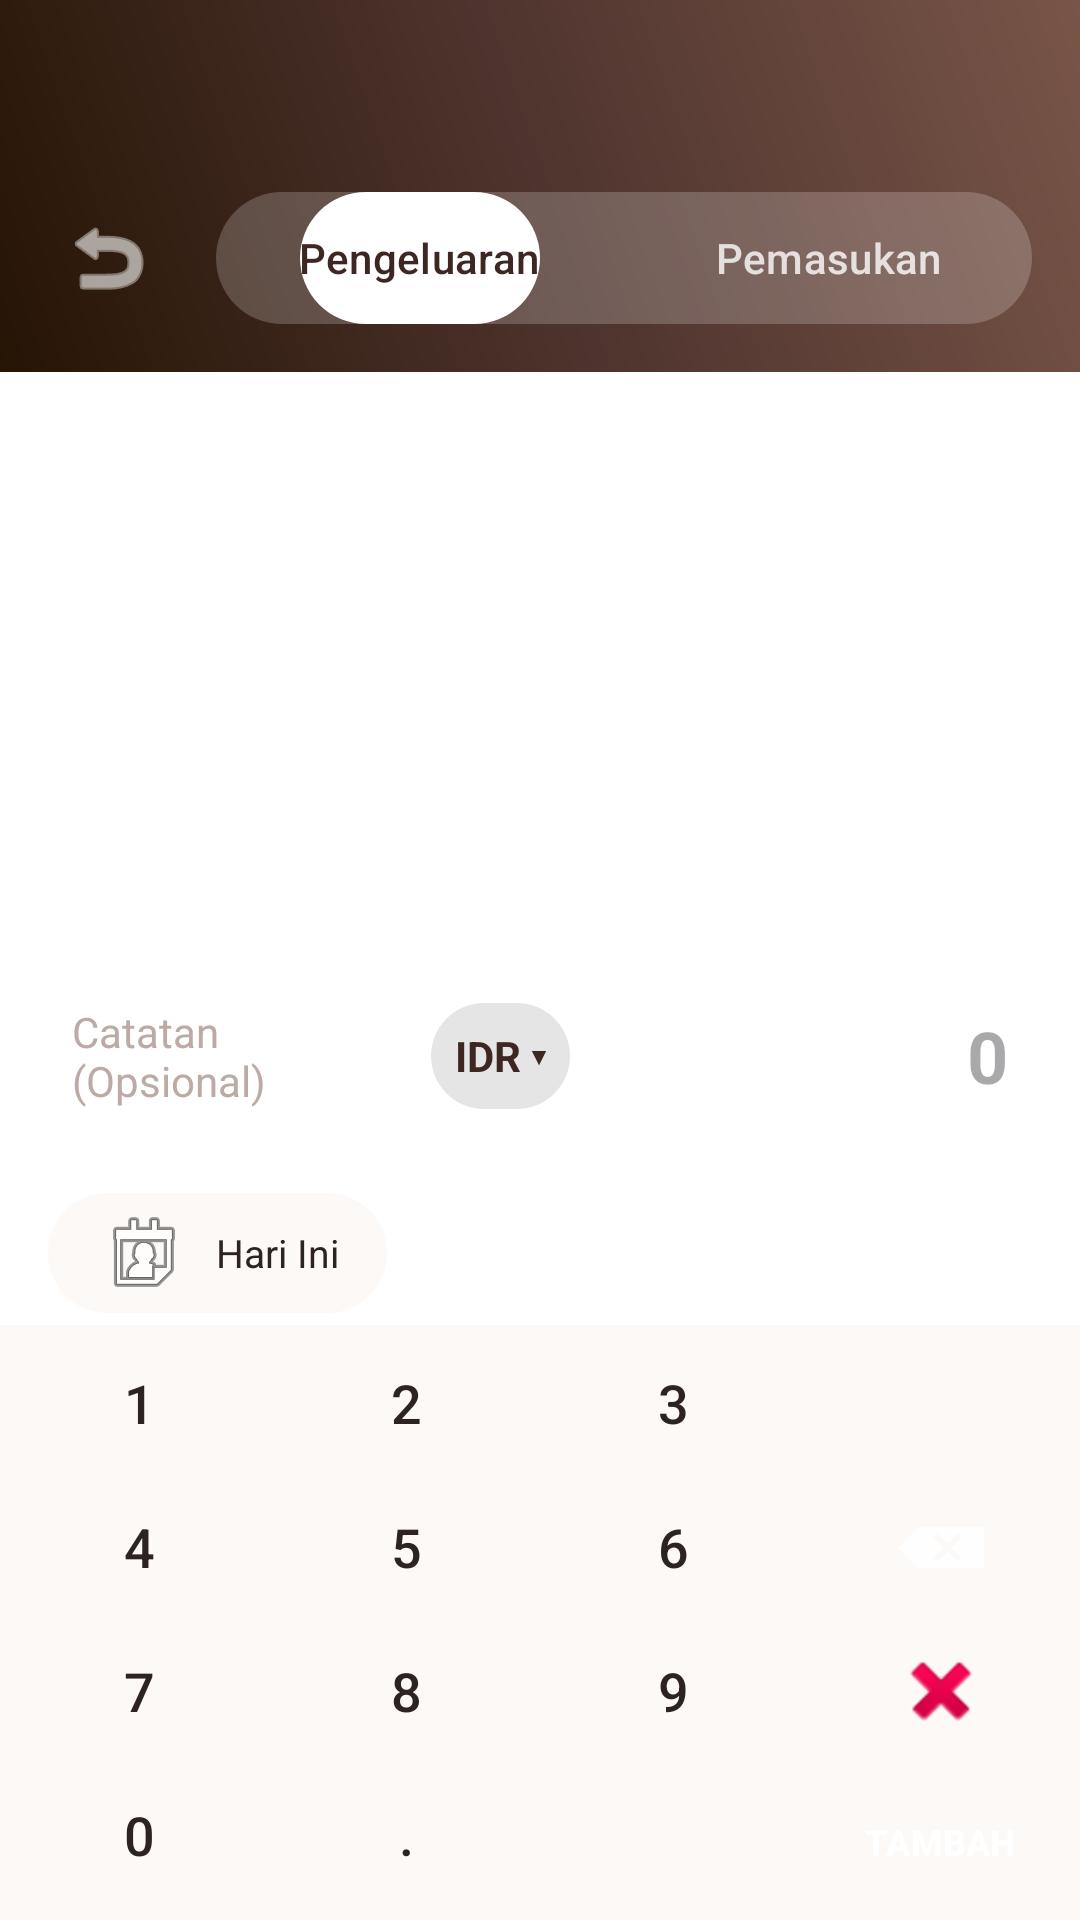

Icons on this 1080×1920 Android screen, each with the point to tap as (x,y):
revert: (109,258)
